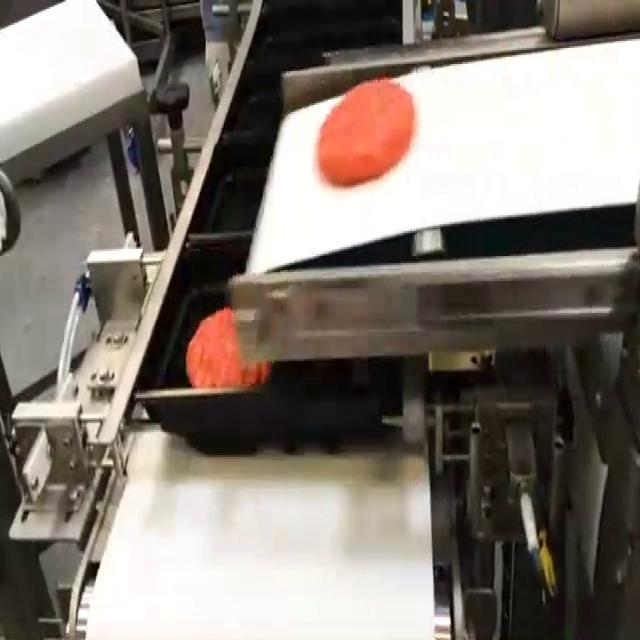hamburguer: (316, 82, 415, 181)
